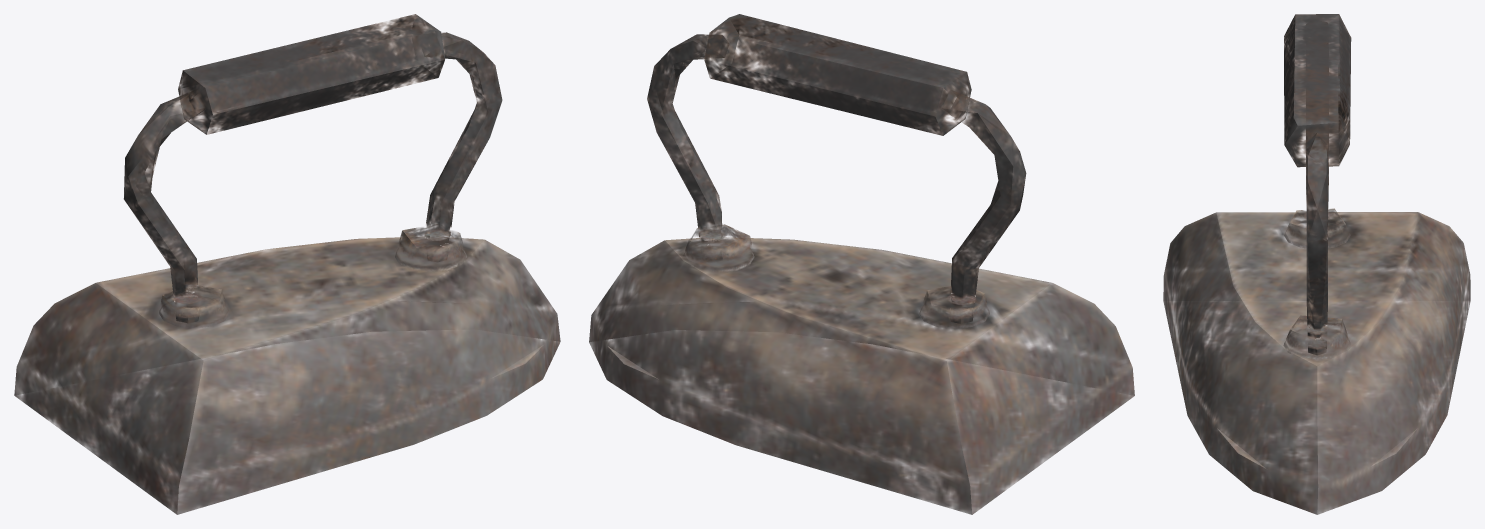
File: iron-sad.lod1.glb
3 views of the same model, side by side, from view 1: azimuth 30°, elevation 25°; view 2: azimuth 150°, elevation 25°; view 3: azimuth 270°, elevation 25° (orthographic). The views are drawn at different scales.
Parts seen in each view (by area): view 1: iron-sad; view 2: iron-sad; view 3: iron-sad.
Boxes of the visible parts, x1,y1,x2,y2 form: iron-sad: (14, 14, 560, 514); iron-sad: (589, 14, 1134, 514); iron-sad: (1163, 14, 1470, 514).
Bounding box in the file's own units: 0.17 × 0.1234 × 0.1031.
Materials: 1 (1 with a texture image).
